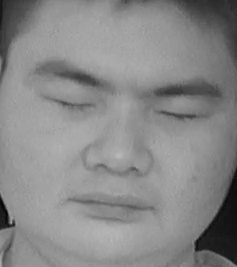blink: (36, 84, 96, 117), (156, 98, 206, 129)
mouth: (65, 182, 157, 229)
